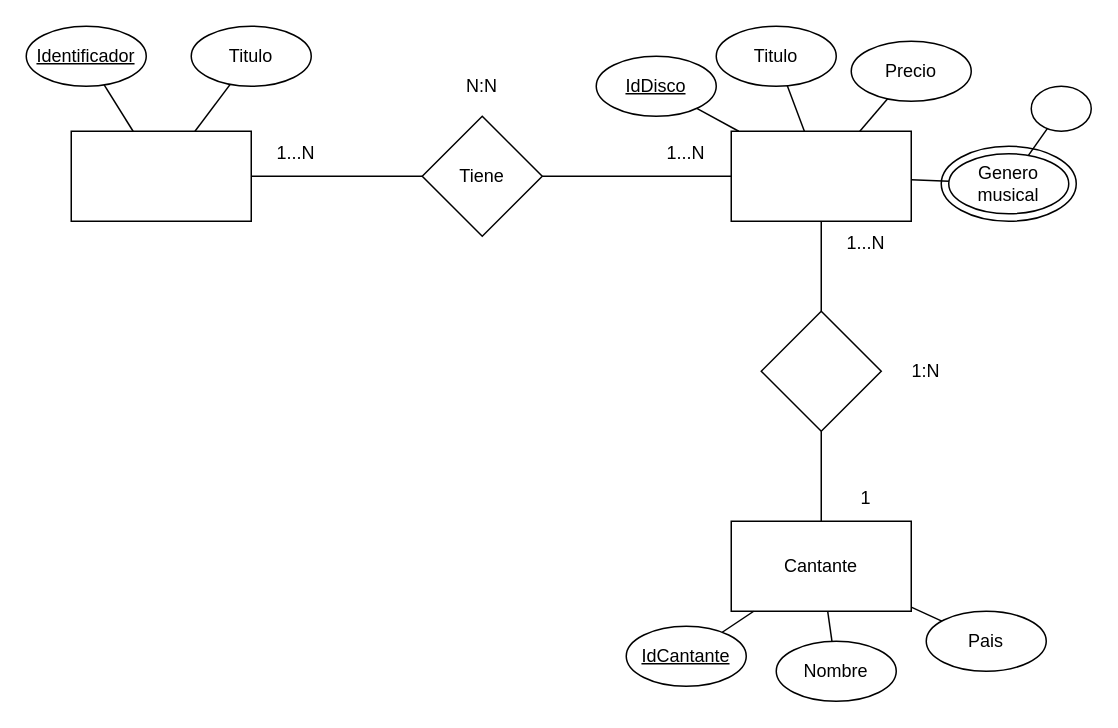
The diagram is 1118 pixels wide and 728 high, and some of its shapes have lost their labels. Each missing label, with the box of its shape:
Cancion: (70, 130, 251, 221)
Disco: (730, 130, 911, 221)
id: (1030, 85, 1091, 131)
Pertenece: (760, 310, 881, 431)
